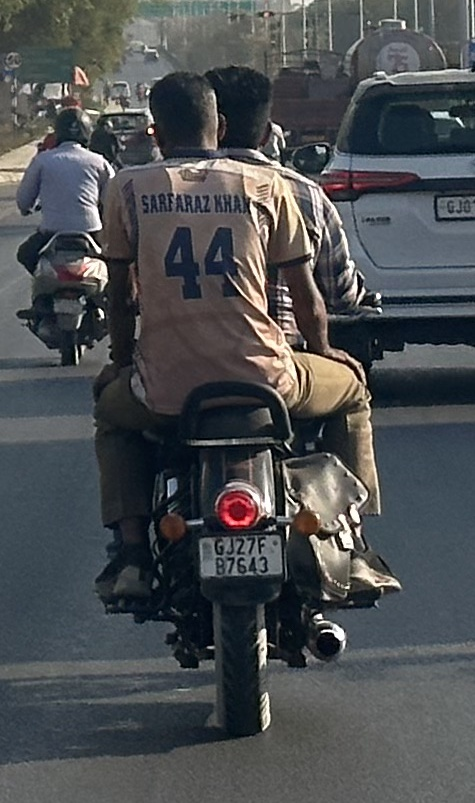BikeWithRider: (77, 55, 411, 746), (8, 98, 124, 372)
Helmet: (44, 101, 97, 153)
NoHelmet: (195, 58, 283, 162), (141, 64, 226, 164)
